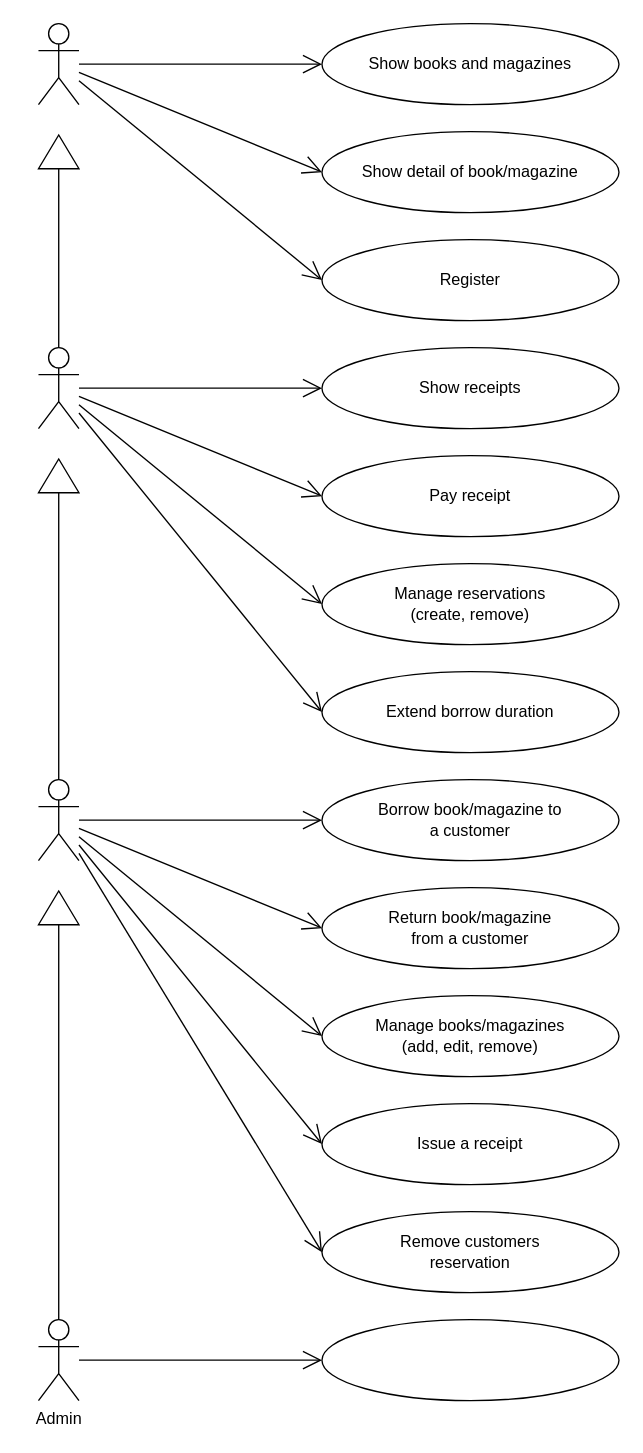
Some shapes in this 643 by 1453 pixel diagram are drawn without their labels. The centre of each missing label's shape, as x and y in pixels:
"Customer" belongs at pixel 58 387.
"Employee" belongs at pixel 58 819.
"Manage employees (add, edit, remove)" belongs at pixel 470 1359.
"User" belongs at pixel 58 63.
